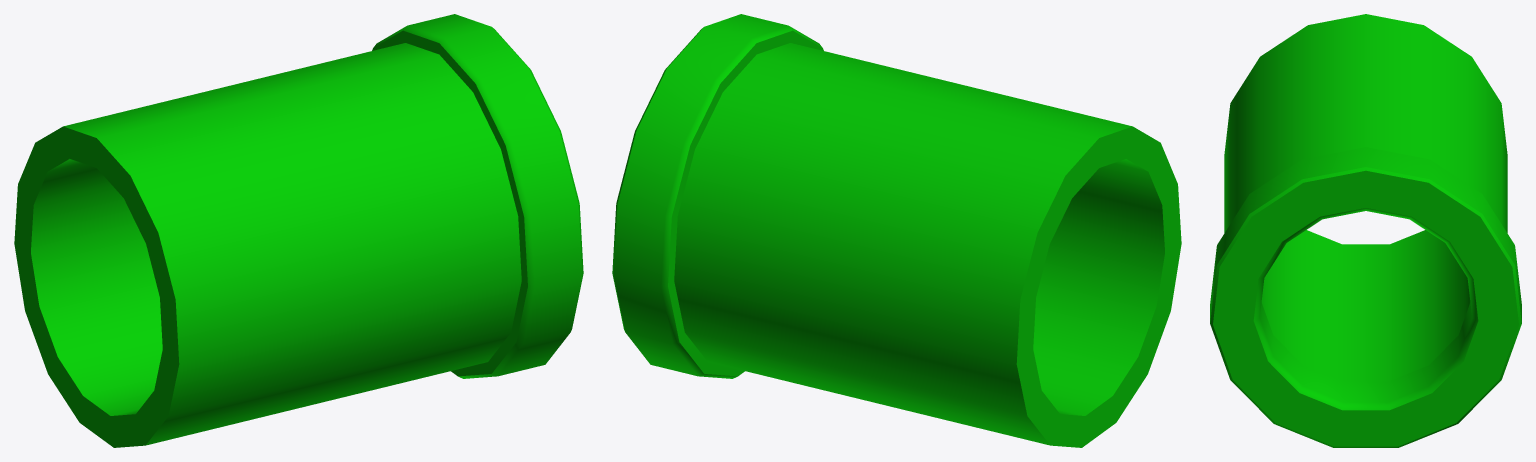
Rendered from med pipe  1.fbx.
3 renders of one model, left to right at view 1: azimuth 30°, elevation 25°; view 2: azimuth 150°, elevation 25°; view 3: azimuth 270°, elevation 25°, orthographic. The views are drawn at different scales.
Visible parts, largest first — view 1: pPipe1; view 2: pPipe1; view 3: pPipe1.
Part boxes in pixels (x1,y1,x2,y2): pPipe1: (14, 14, 583, 447); pPipe1: (612, 14, 1181, 447); pPipe1: (1210, 14, 1521, 447).
Bounding box in the file's own units: 5.3 × 4.16 × 4.18.
